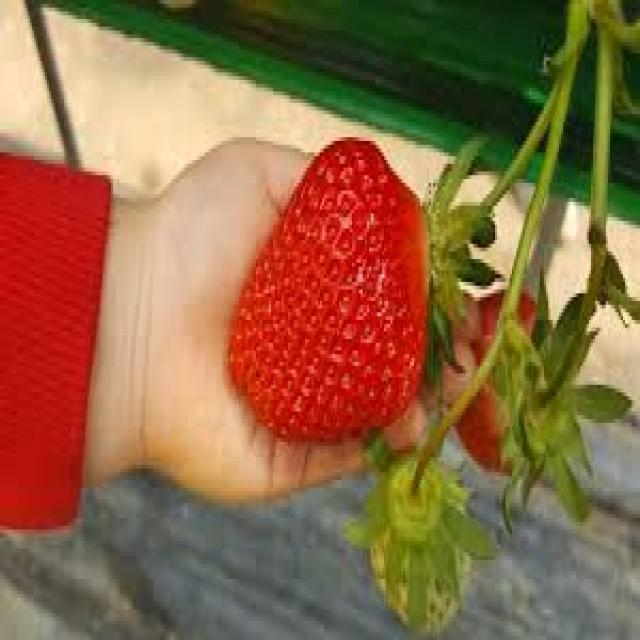mature: (228, 137, 429, 443)
